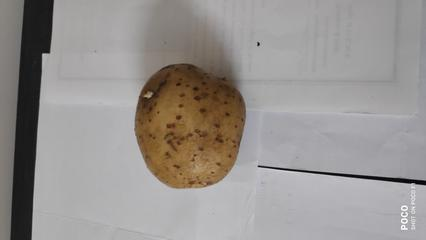potato: (131, 59, 240, 191)
